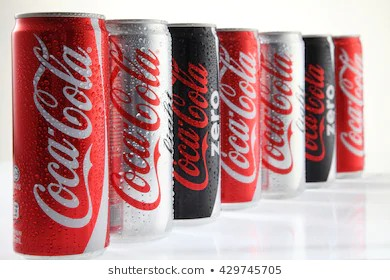coke-can: (8, 10, 120, 257), (217, 27, 263, 211), (334, 35, 367, 177)
coke-can-diet: (115, 14, 176, 246)
coke-can-zero: (176, 21, 220, 222), (258, 28, 308, 197), (304, 32, 339, 186)
